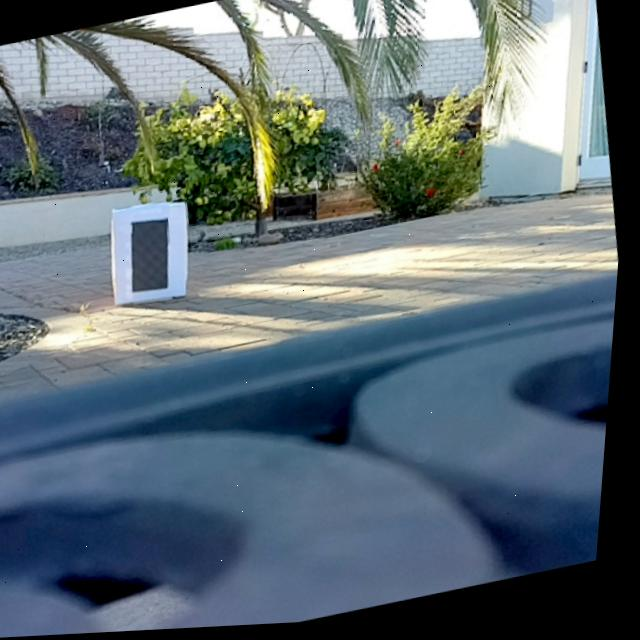led: (127, 216, 181, 298)
